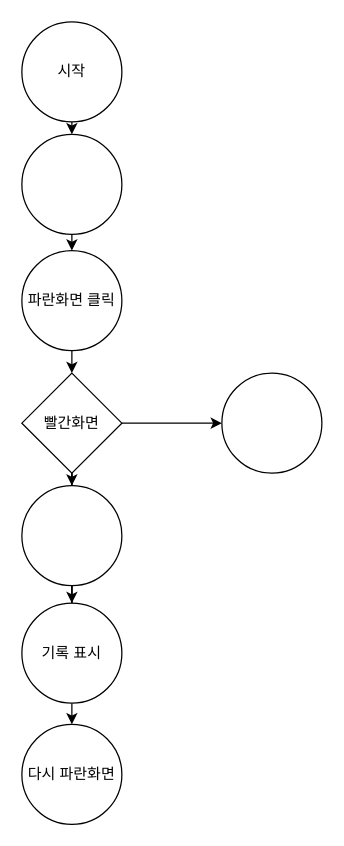
This 344x846 diagram has some shape labels left out. The box of each missing label's shape, as (x1, y1, x2, y2) in pixels:
너무 빨리 눌렀다고 메세지: (221, 372, 322, 473)
초록화면: (21, 484, 122, 586)
파란 화면을 띄운다: (21, 133, 122, 234)
